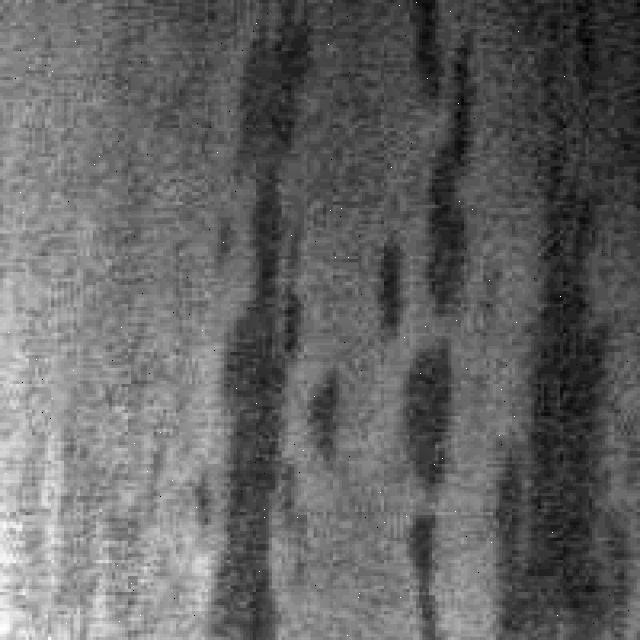Patches: (201, 0, 316, 630), (516, 150, 630, 630), (391, 0, 474, 509), (394, 499, 452, 637)
